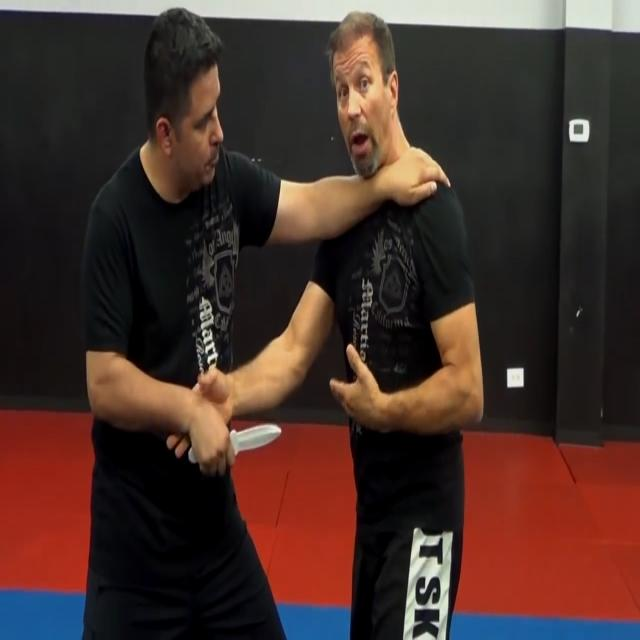knife: (231, 421, 285, 465)
